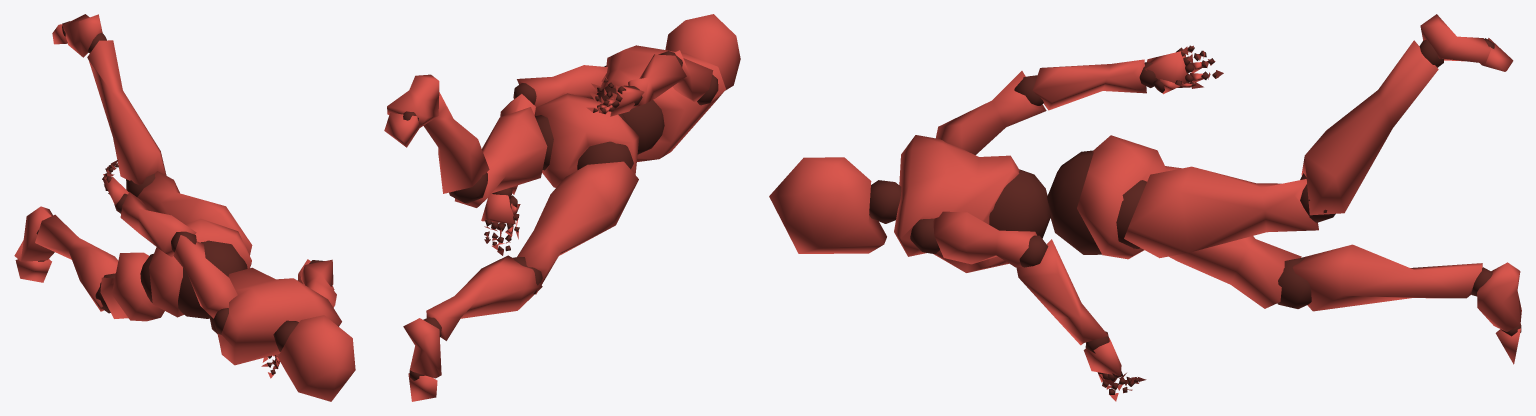
3 renders of one model, left to right at view 1: azimuth 30°, elevation 25°; view 2: azimuth 150°, elevation 25°; view 3: azimuth 270°, elevation 25°, orthographic. The views are drawn at different scales.
Visible parts, largest first — view 1: Beta_Surface, Beta_Joints; view 2: Beta_Surface, Beta_Joints; view 3: Beta_Surface, Beta_Joints.
Boxes of the visible parts, bbox=[...] form: Beta_Surface: bbox=[14, 14, 355, 401]; Beta_Joints: bbox=[36, 21, 324, 374]; Beta_Surface: bbox=[384, 14, 740, 401]; Beta_Joints: bbox=[403, 51, 718, 380]; Beta_Surface: bbox=[769, 14, 1521, 401]; Beta_Joints: bbox=[869, 38, 1521, 394].
Size of the model in its own units: 0.5862 by 0.9181 by 1.77.
